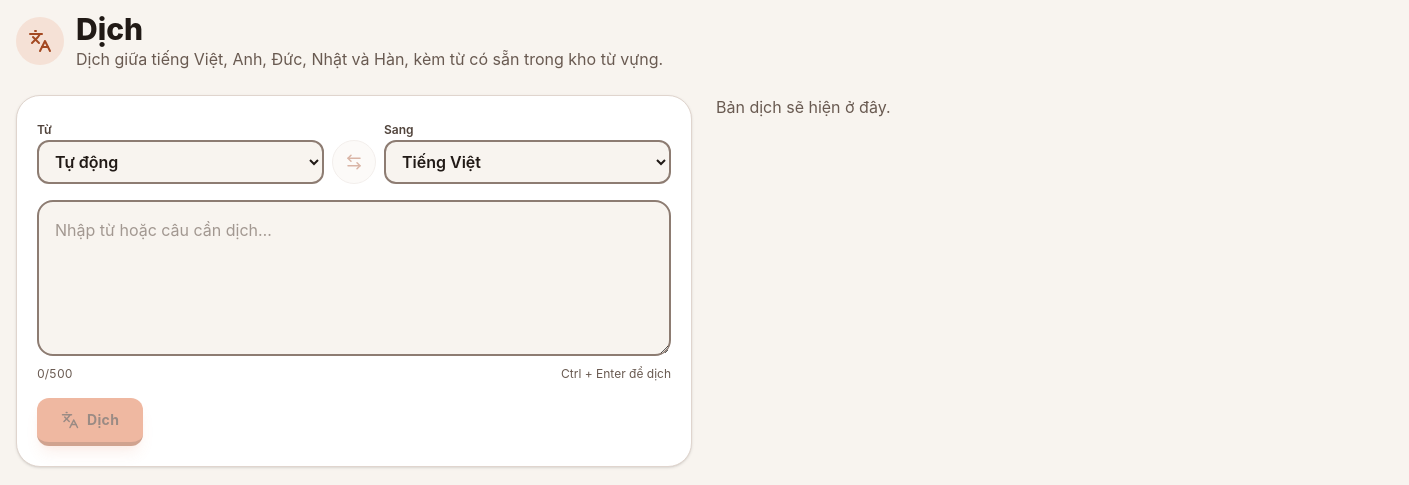
TranslatePage › detects the language by default, translates with Ctrl+Enter and lists matching words
This screenshot has width=1409, height=485.
Expected: the dropdown labelled "Từ" shows "Tự động", [37,140,324,184]
Select "Tiếng Nhật" in the dropdown labelled "Sang" at (528, 162), box [384,140,671,184]
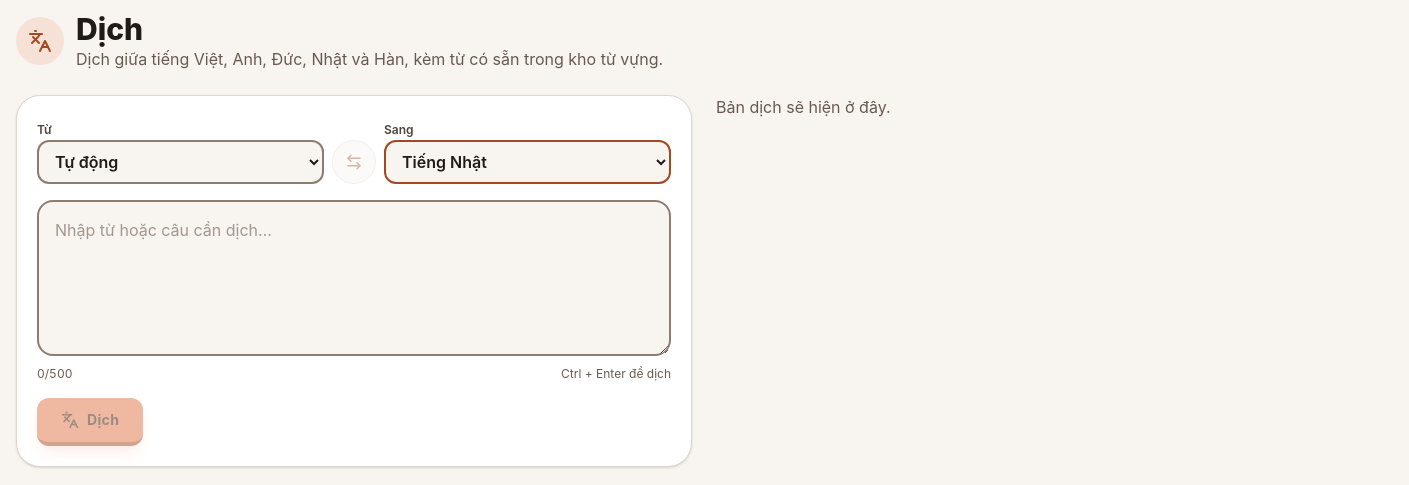
Type "con mèo" into the text box named "Nội dung cần dịch" at (354, 278), box [37,200,671,356]
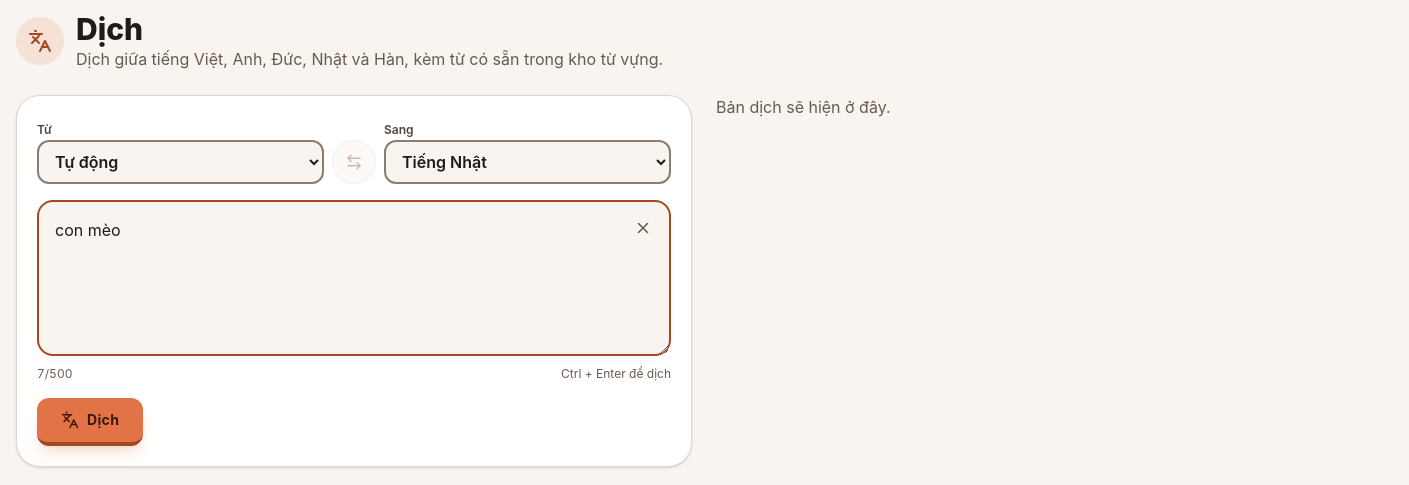
Type keys "{Control>}{Enter}{/Control}"
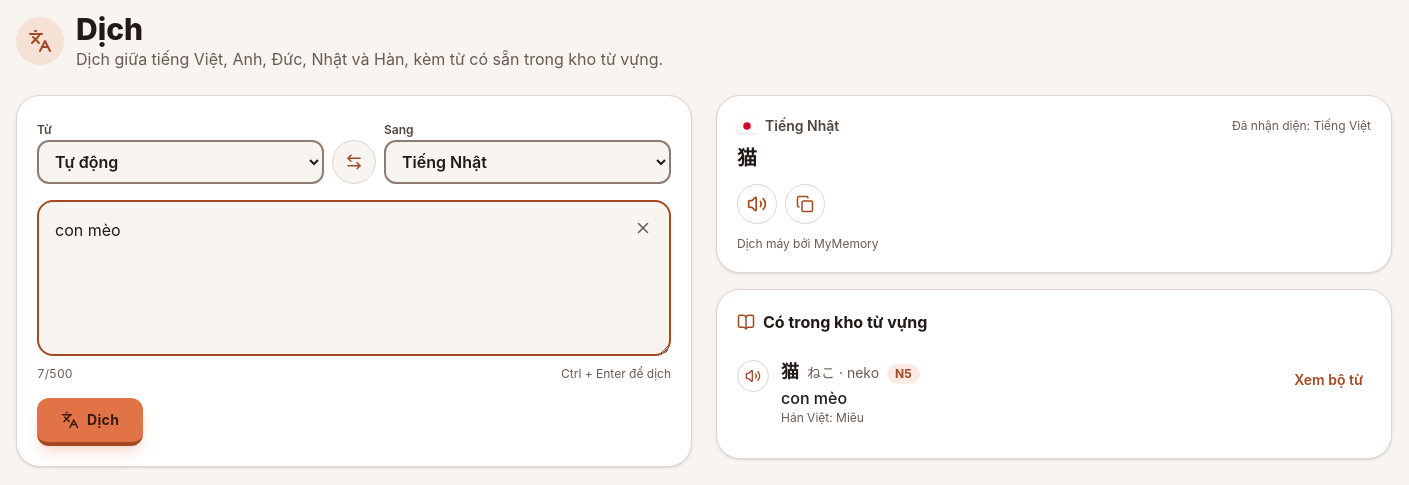
Result: the text "Đã nhận diện: Tiếng Việt" is shown at [1232,118,1371,134]
Result: the text "Dịch máy bởi MyMemory" is shown at [737,236,879,251]
Result: the text "Hán Việt: Miêu" is shown at [781,410,864,425]
